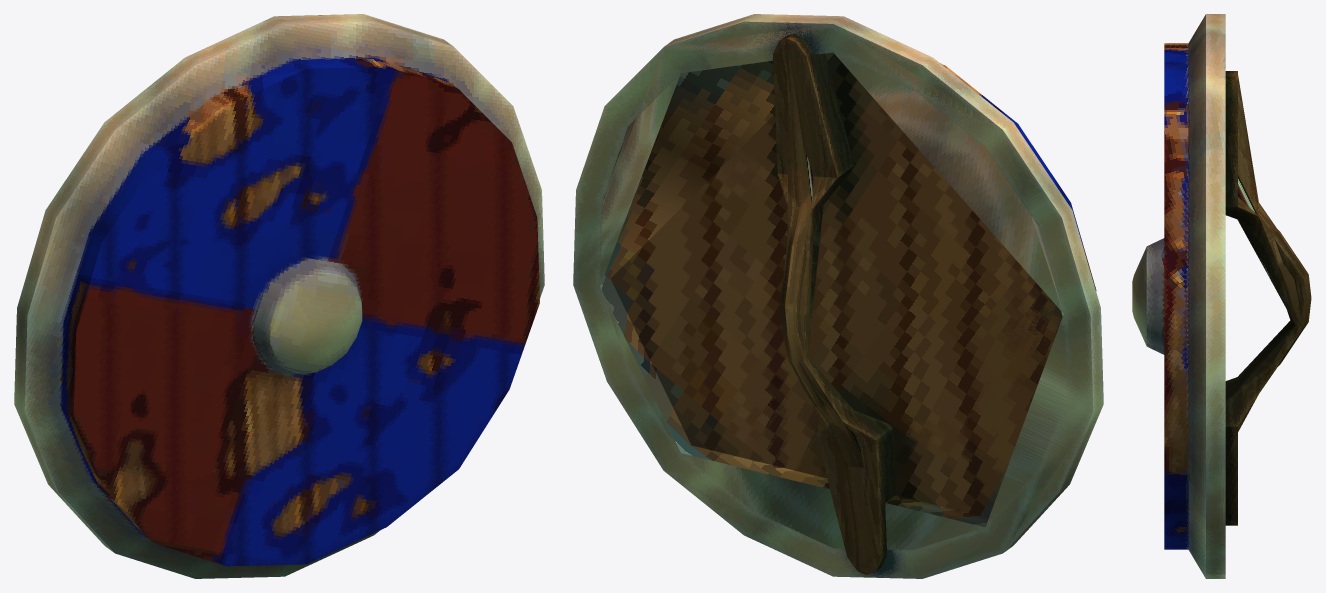
The model's file is item_shield_viking_2.glb.
The picture shows the model from 3 angles, left to right: view 1: azimuth 30°, elevation 25°; view 2: azimuth 150°, elevation 25°; view 3: azimuth 270°, elevation 25°; orthographic projection. The views are drawn at different scales.
Parts seen in each view (by area): view 1: shield; view 2: shield; view 3: shield.
Part boxes in pixels (bbox=[...]): shield: bbox=[14, 14, 544, 578]; shield: bbox=[573, 14, 1103, 578]; shield: bbox=[1132, 14, 1311, 578].
Bounding box in the file's own units: 0.532 × 0.5402 × 0.1686.
1 material, 1 textured.
